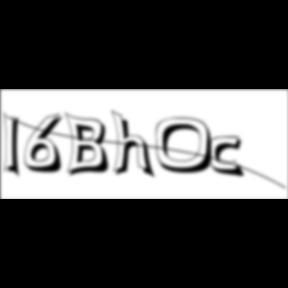6: (24, 112, 70, 176)
B: (65, 111, 115, 179)
I: (4, 110, 28, 182)
O: (156, 117, 220, 176)
c: (209, 136, 249, 180)
h: (112, 108, 158, 182)
